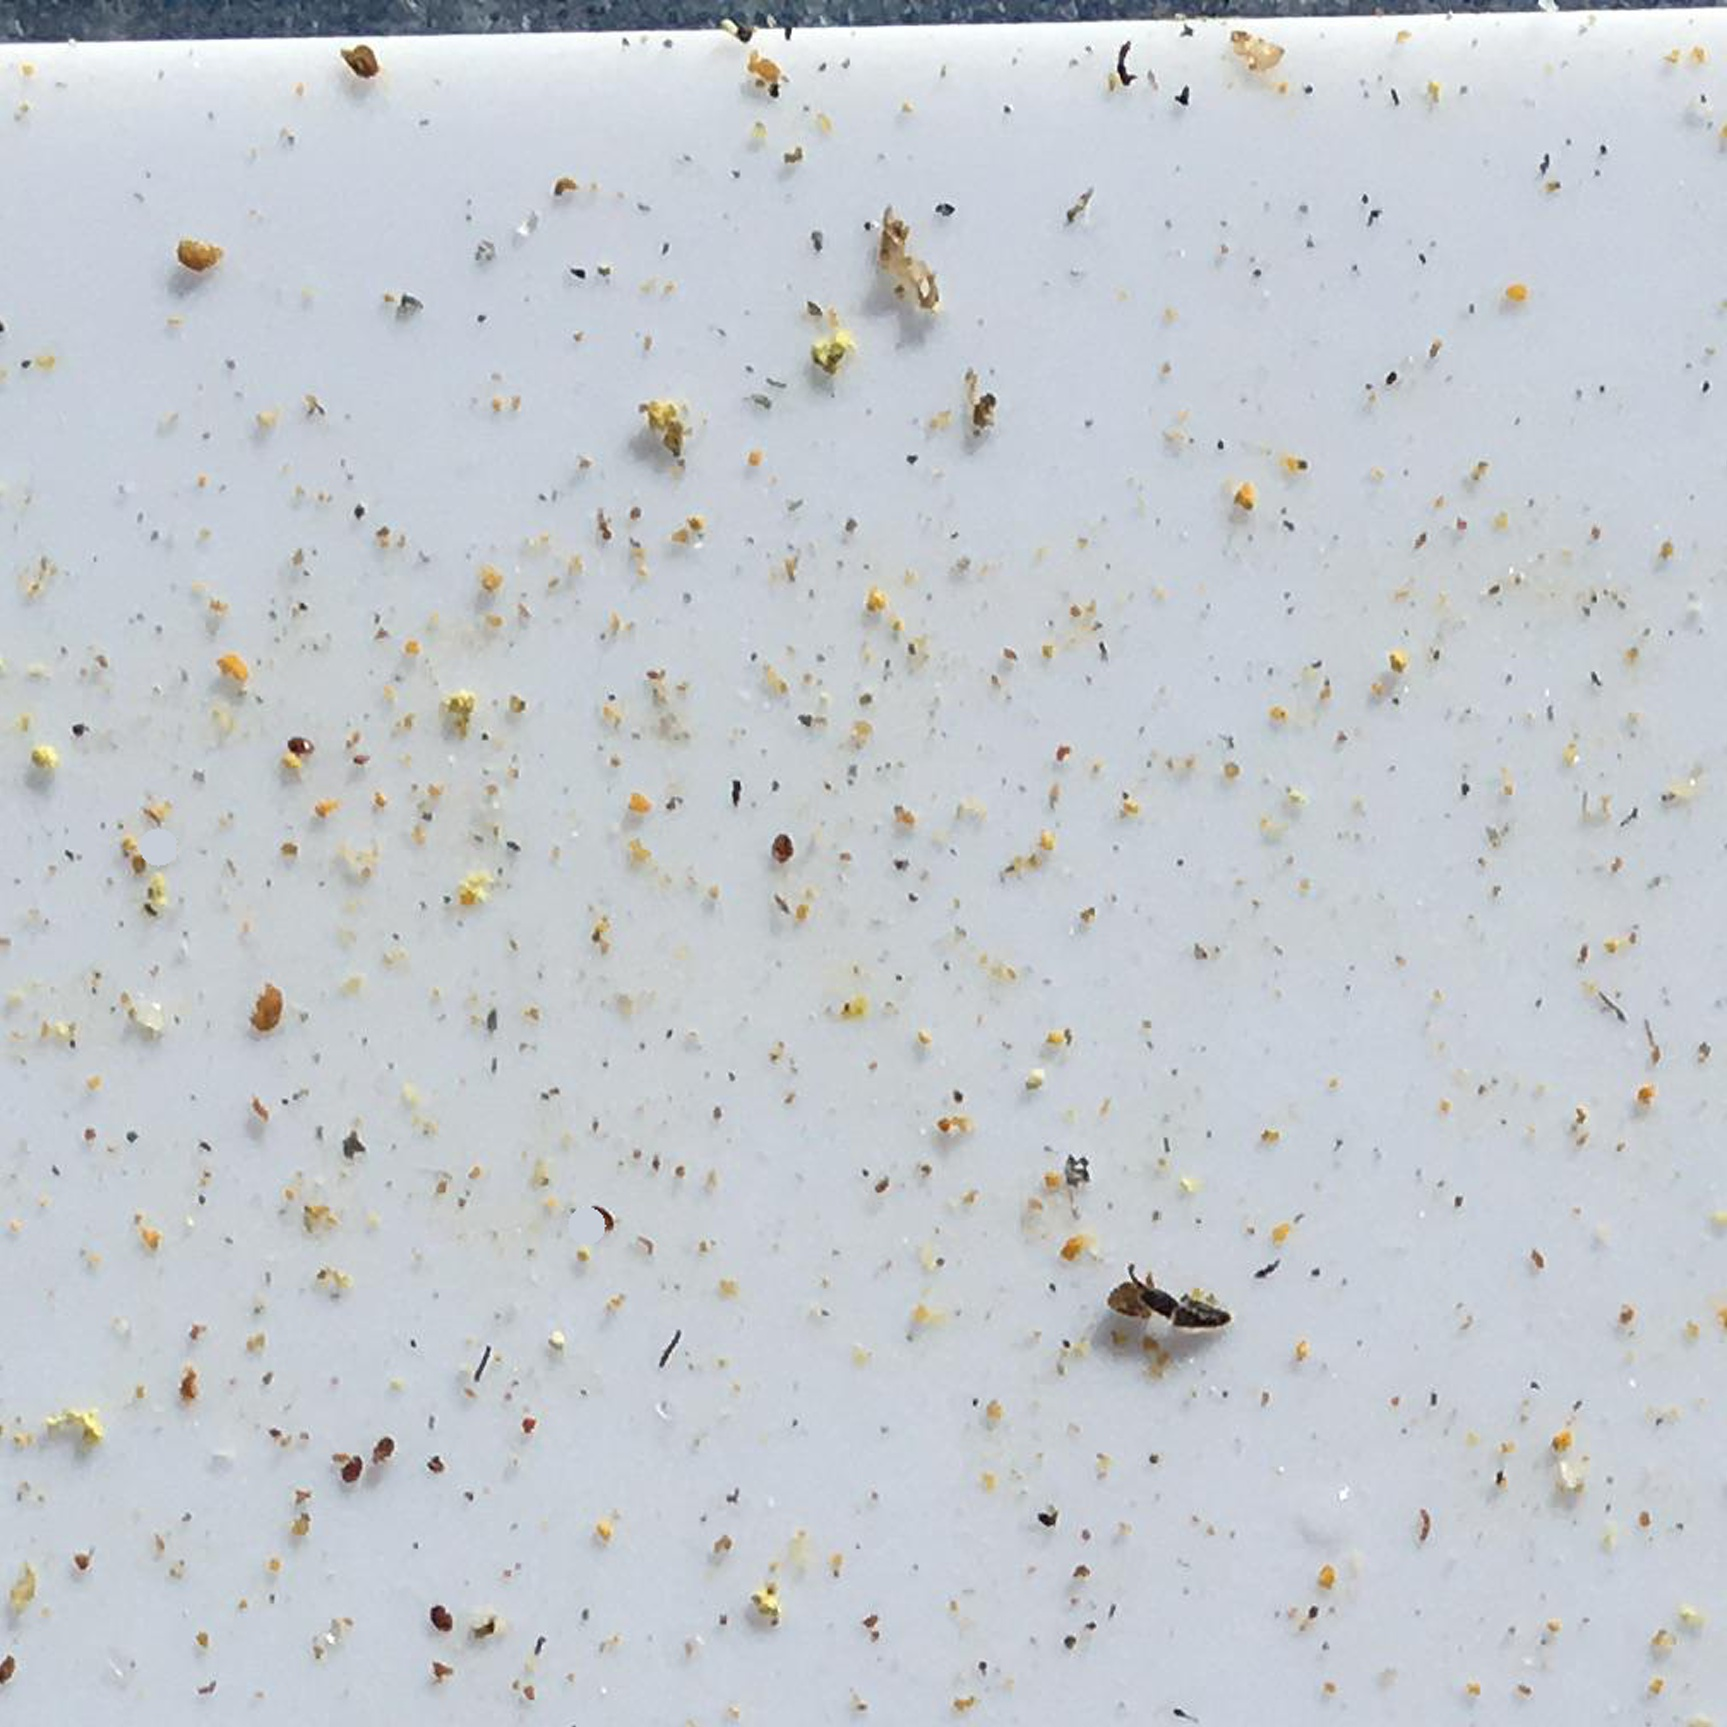Varroa: (275, 721, 323, 767), (334, 1439, 376, 1482), (590, 1202, 623, 1234), (769, 829, 802, 860), (429, 1596, 460, 1627)
